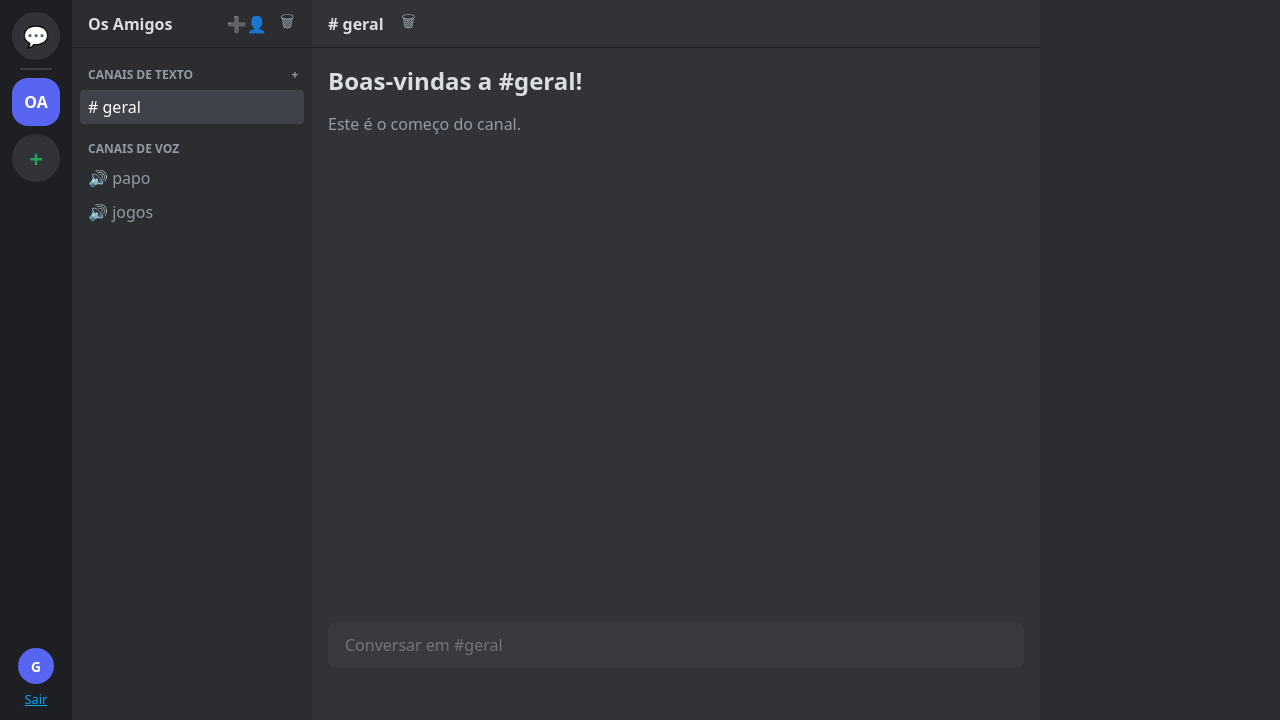
Test: entrar e sair da voz › entrar em outro canal sai do anterior antes
The image size is (1280, 720).
Click the button with aria-label "Entrar no canal de voz papo" at [179, 178], box x1=80 y1=161 x2=278 y2=195
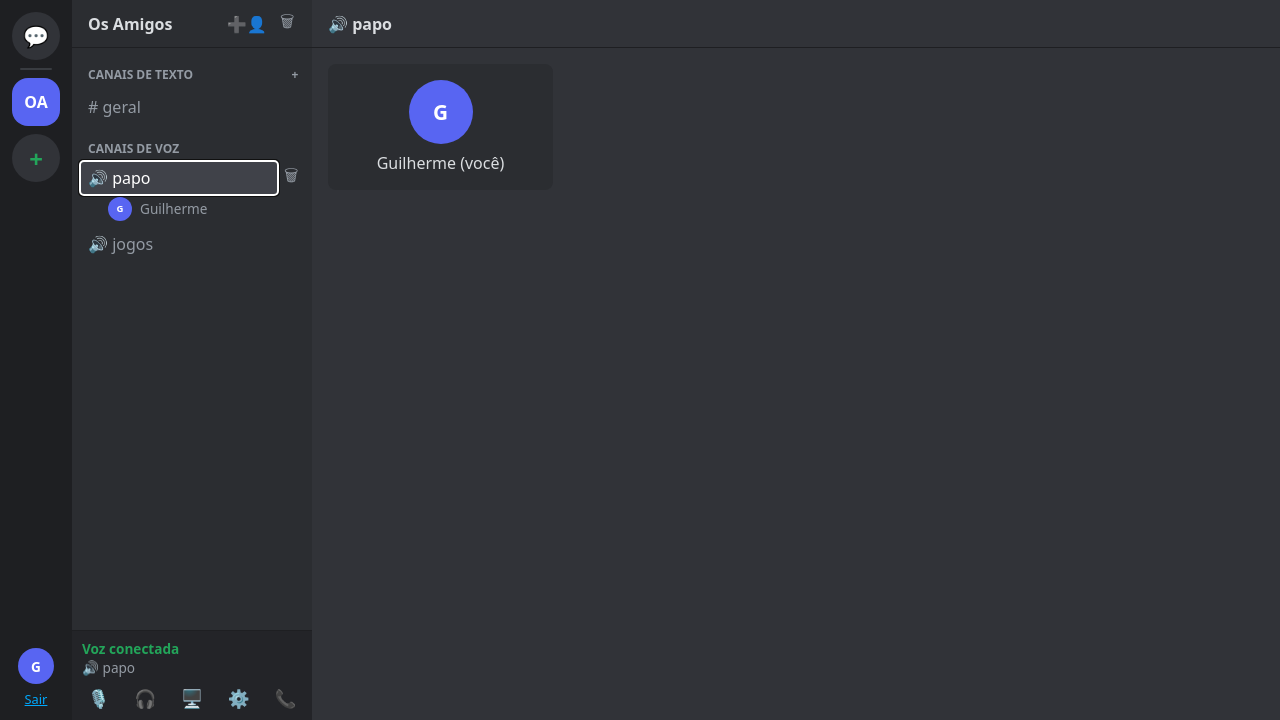
Expected: the text "Voz conectada" is shown, x1=82 y1=639 x2=179 y2=658
Click the button with aria-label "Entrar no canal de voz jogos" at [179, 244], box x1=80 y1=227 x2=278 y2=261
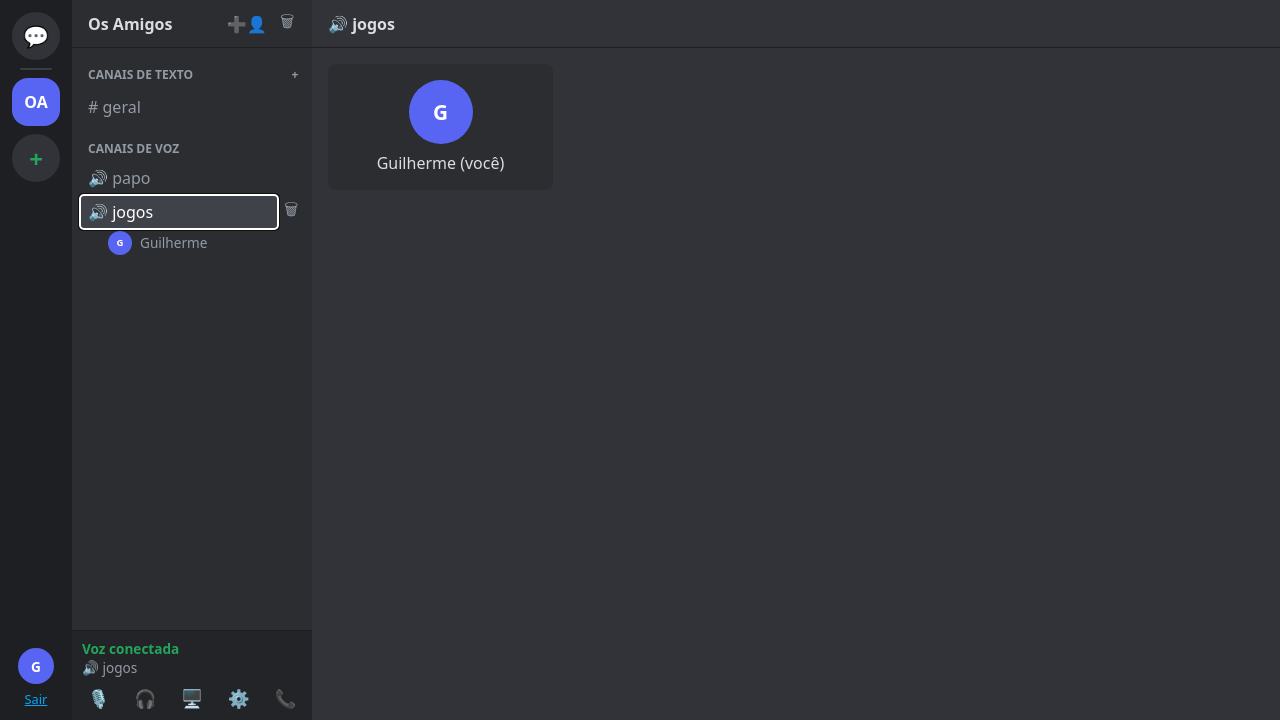
Expected: the text "🔊 jogos" is shown, x1=82 y1=658 x2=137 y2=677
